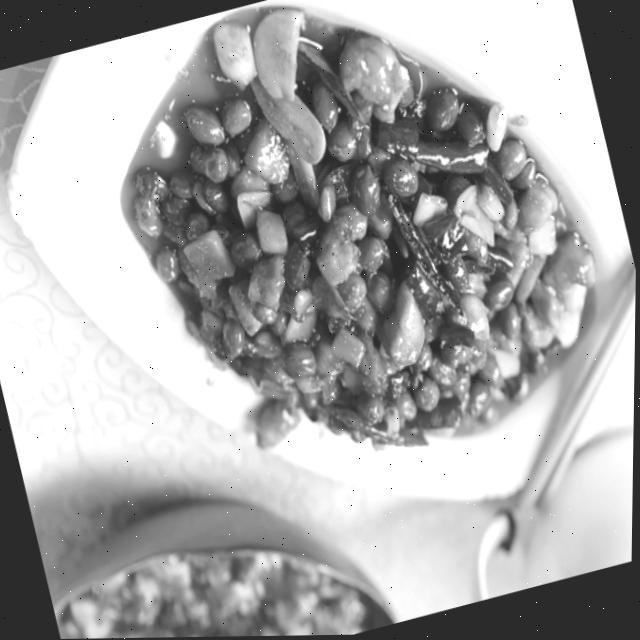鸡肉料理 含炸鸡: (25, 0, 640, 566)
